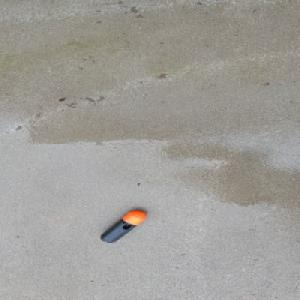PlasticPart: (99, 209, 148, 243)
